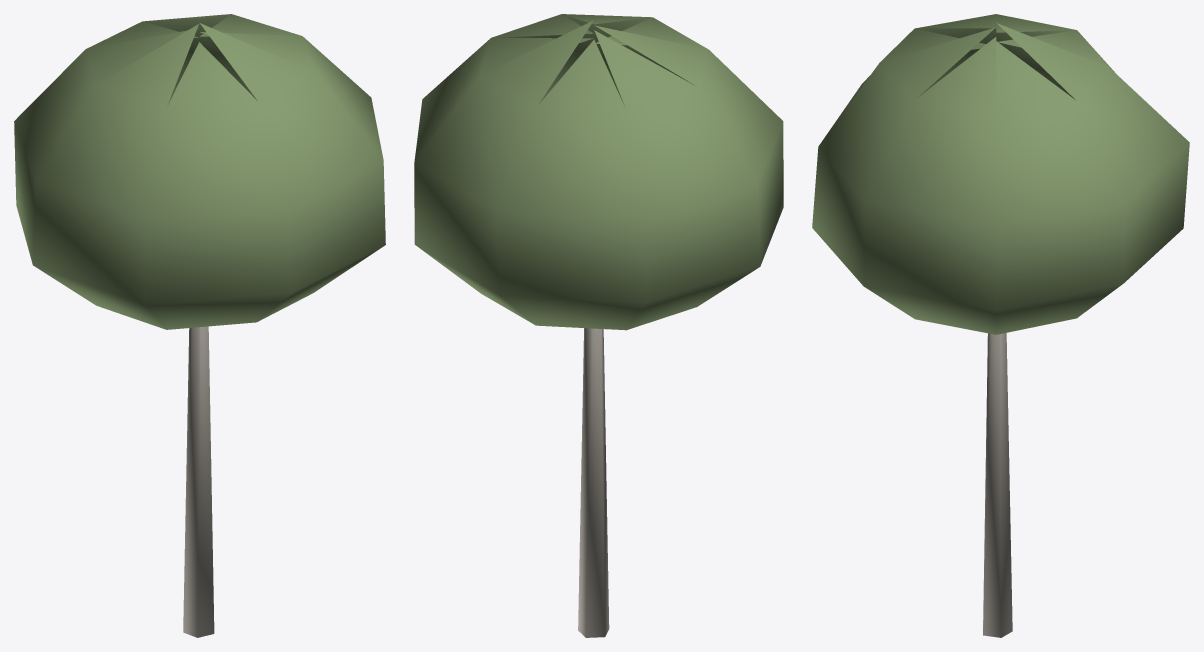
The model's file is kapok-far.glb.
3 renders of one model, left to right at view 1: azimuth 30°, elevation 25°; view 2: azimuth 150°, elevation 25°; view 3: azimuth 270°, elevation 25°, orthographic.
Visible parts, largest first — view 1: kapok-far_canopy_kapok_far, kapok-far_canopy_bark_pale; view 2: kapok-far_canopy_kapok_far, kapok-far_canopy_bark_pale; view 3: kapok-far_canopy_kapok_far, kapok-far_canopy_bark_pale.
Boxes of the visible parts, box(x1,y1,x2,y2) form: kapok-far_canopy_kapok_far: box(14, 14, 385, 329); kapok-far_canopy_bark_pale: box(183, 326, 214, 637); kapok-far_canopy_kapok_far: box(414, 14, 783, 330); kapok-far_canopy_bark_pale: box(578, 328, 609, 637); kapok-far_canopy_kapok_far: box(812, 14, 1189, 334); kapok-far_canopy_bark_pale: box(983, 333, 1012, 637).
Size of the model in its own units: 14.69 by 25.41 by 14.29.
